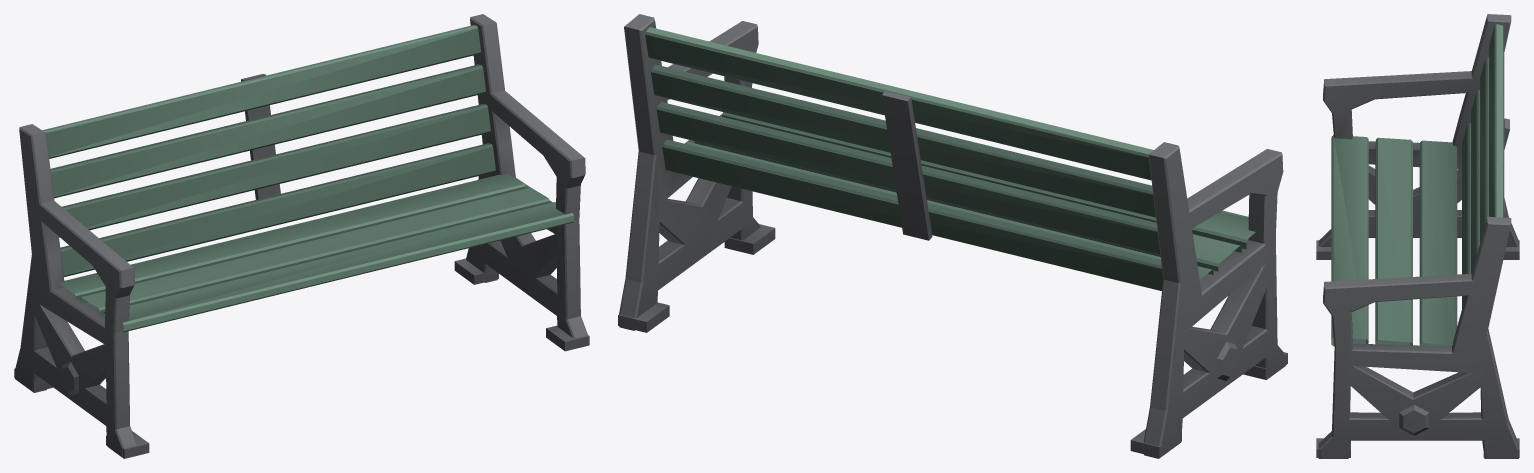
The model's file is bench.glb.
3 views of the same model, side by side, from view 1: azimuth 30°, elevation 25°; view 2: azimuth 150°, elevation 25°; view 3: azimuth 270°, elevation 25° (orthographic). The views are drawn at different scales.
Parts seen in each view (by area): view 1: bench.001; view 2: bench.001; view 3: bench.001.
Boxes of the visible parts, box(x1,y1,x2,y2) form: bench.001: box(14, 14, 589, 458); bench.001: box(618, 14, 1287, 458); bench.001: box(1316, 14, 1519, 458).
Bounding box in the file's own units: 1.8 × 0.9352 × 0.7295.
